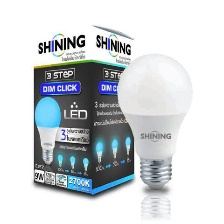carton: (28, 18, 140, 201)
light_bulb: (110, 46, 196, 193)
